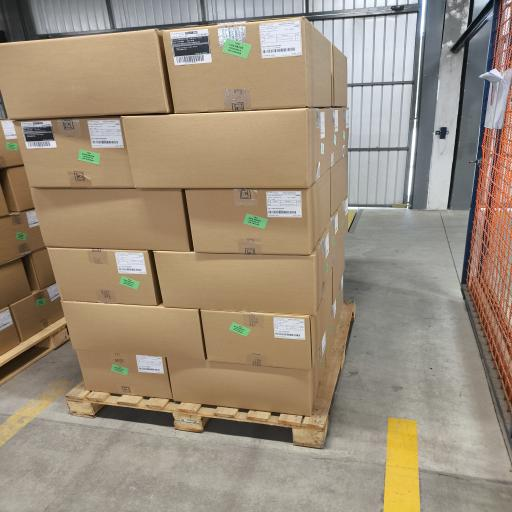pallet: (67, 301, 355, 448), (0, 318, 69, 385)
